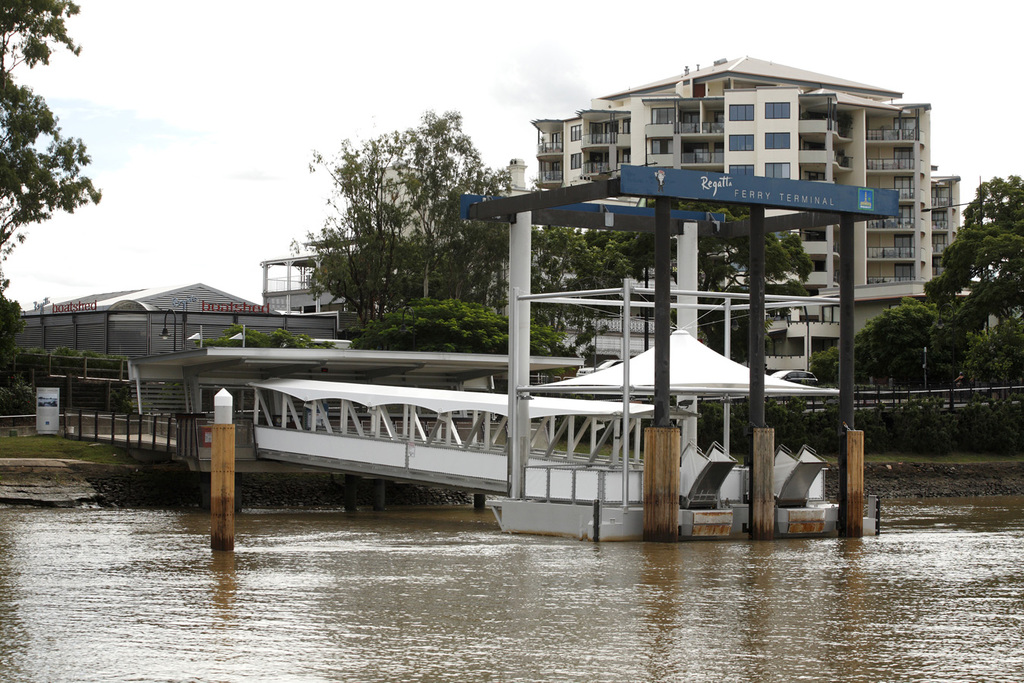Tree: (289, 104, 825, 372), (814, 177, 1021, 388), (0, 0, 100, 264)
